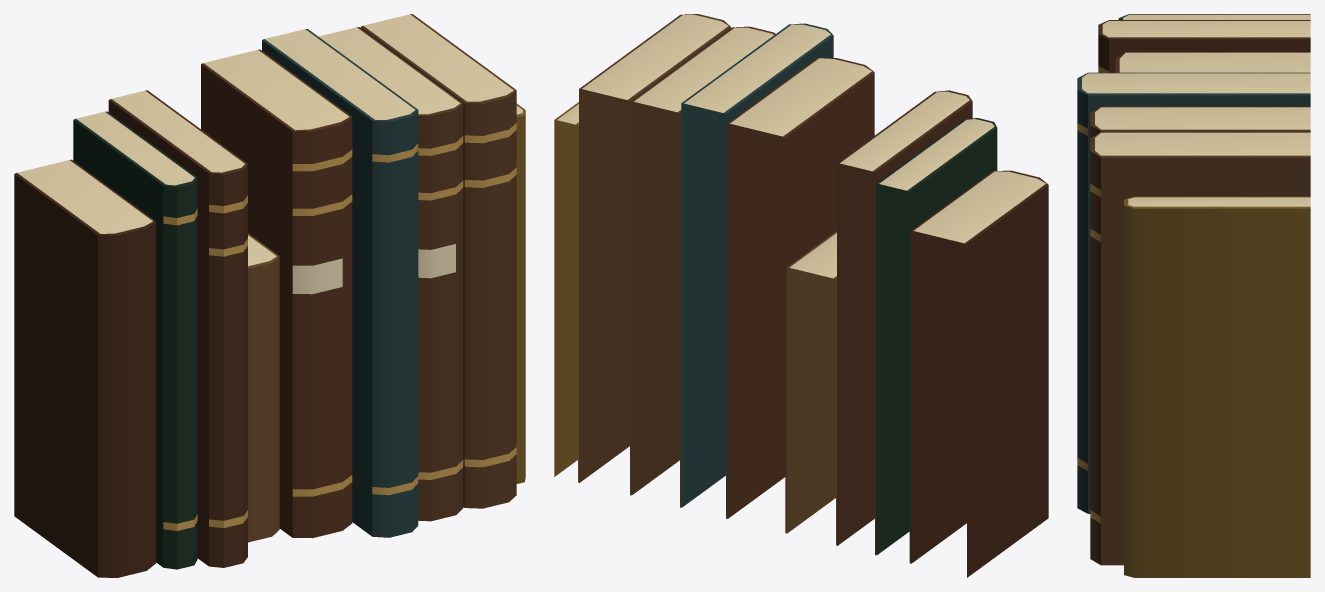
Rendered from bookrow_tall_0.glb.
3 renders of one model, left to right at view 1: azimuth 30°, elevation 25°; view 2: azimuth 150°, elevation 25°; view 3: azimuth 270°, elevation 25°, orthographic. The views are drawn at different scales.
Visible parts, largest first — view 1: bookrow_tall_0; view 2: bookrow_tall_0; view 3: bookrow_tall_0.
Boxes of the visible parts, x1,y1,x2,y2 form: bookrow_tall_0: [14, 14, 525, 577]; bookrow_tall_0: [554, 14, 1048, 577]; bookrow_tall_0: [1077, 14, 1310, 577].
Size of the model in its own units: 0.4846 by 0.4547 by 0.2293.
